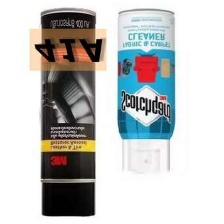aerosol_cans: (37, 4, 99, 218), (114, 5, 177, 178)
